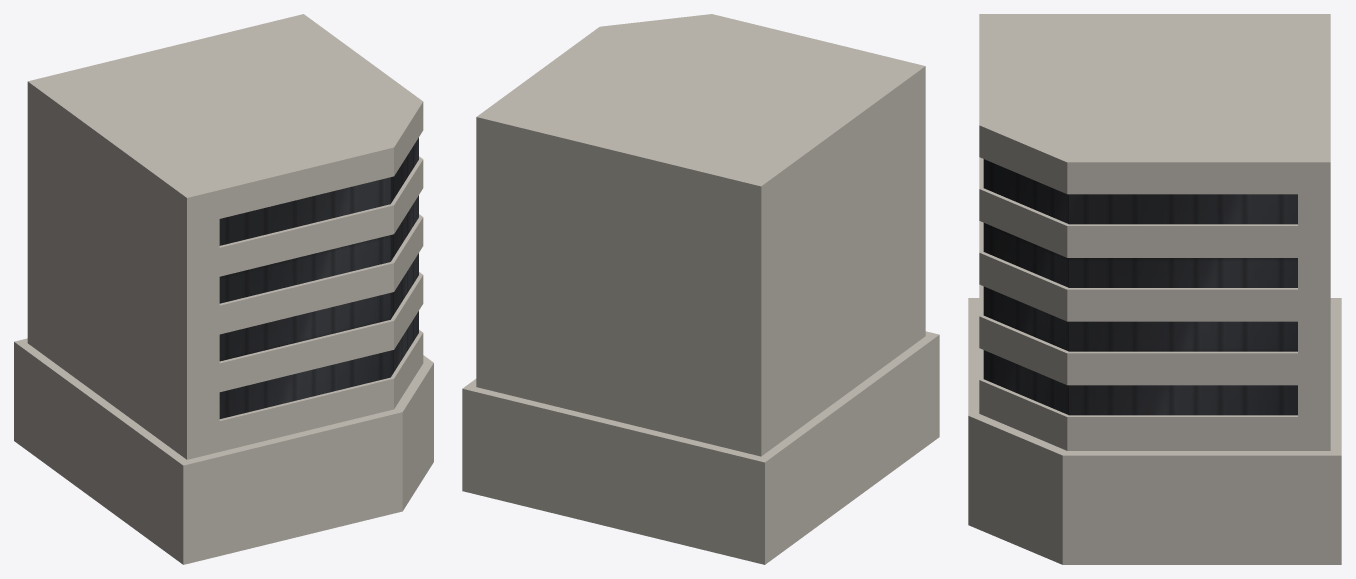
The model's file is Bld_Building_K_low.fbx.
The picture shows the model from 3 angles, left to right: view 1: azimuth 30°, elevation 25°; view 2: azimuth 150°, elevation 25°; view 3: azimuth 270°, elevation 25°; orthographic projection. The views are drawn at different scales.
Visible parts, largest first — view 1: Bld_Building_K_low; view 2: Bld_Building_K_low; view 3: Bld_Building_K_low.
Part boxes in pixels (x1=…): Bld_Building_K_low: x1=14, y1=14, x2=433, y2=564; Bld_Building_K_low: x1=462, y1=14, x2=939, y2=564; Bld_Building_K_low: x1=968, y1=14, x2=1341, y2=564.
Bounding box in the file's own units: 1700 × 2000 × 1700.
